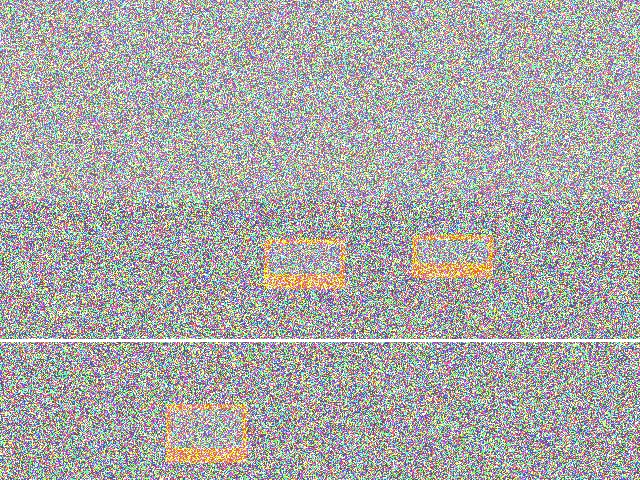car: (285, 157, 415, 265)
motorcycle: (522, 138, 596, 279), (117, 302, 195, 426)
